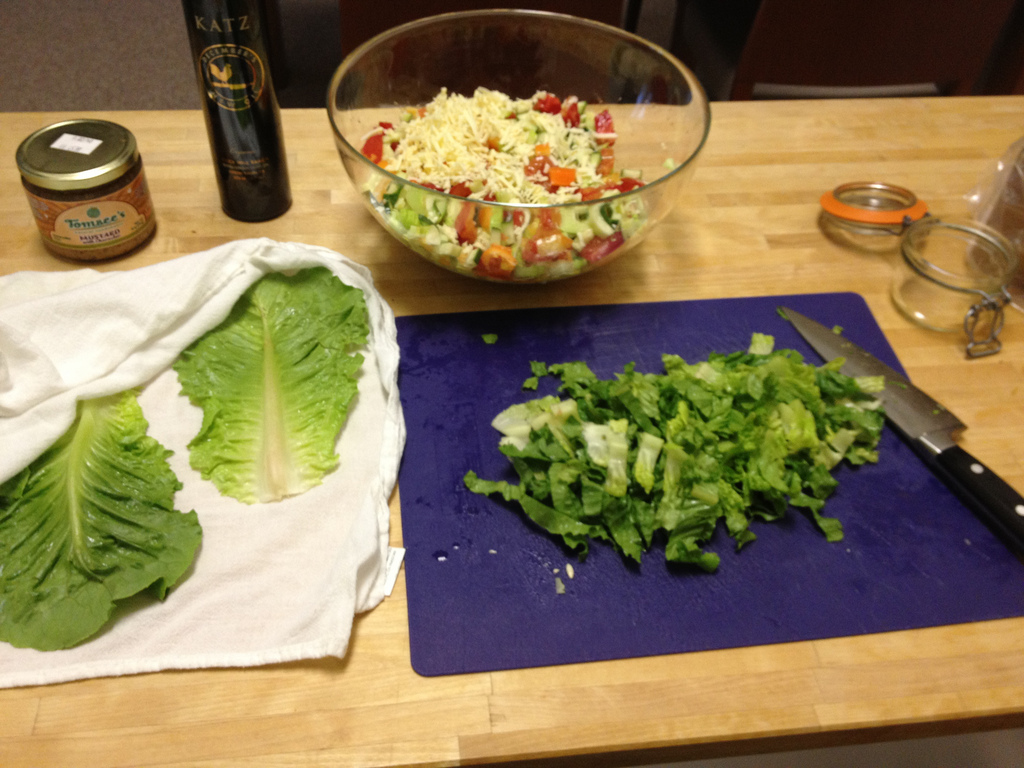chopped lettuce: (518, 361, 861, 540), (6, 374, 162, 644), (196, 267, 350, 500)
